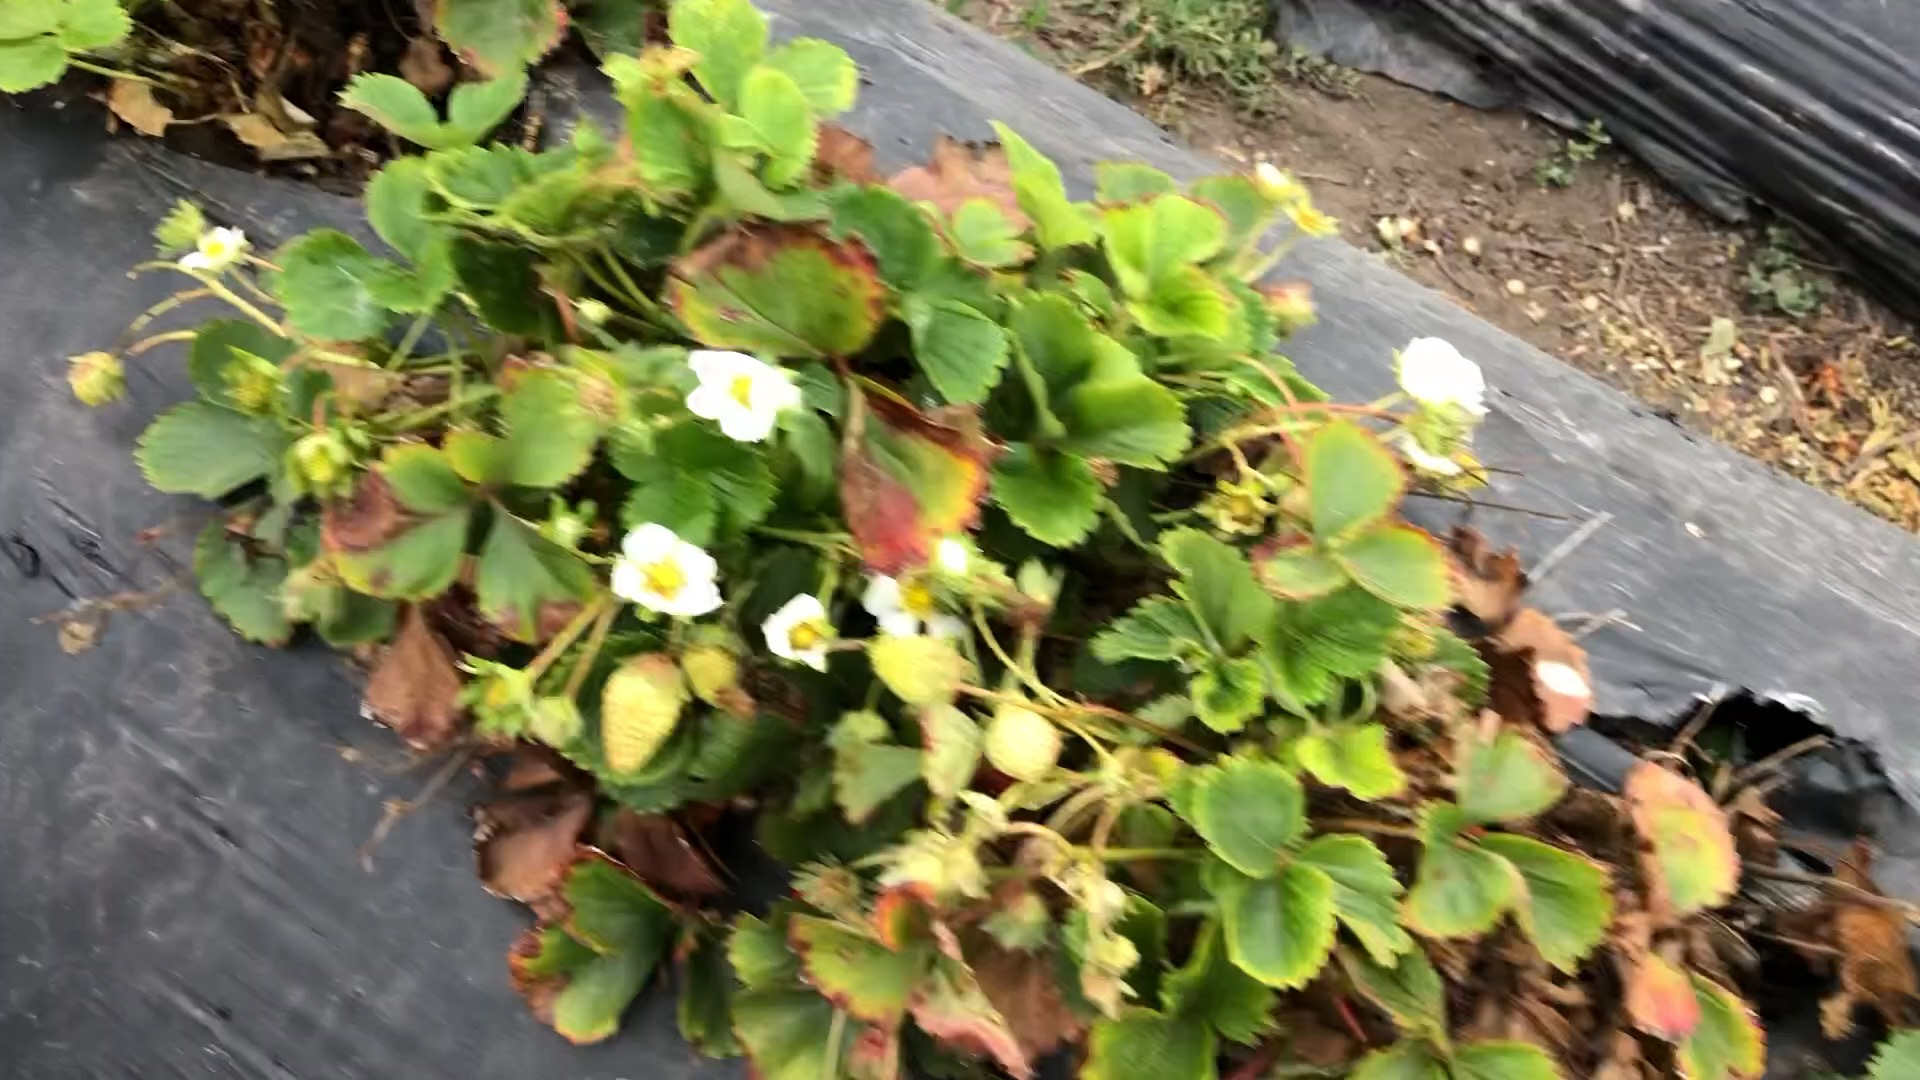unripe_strawberry: (593, 651, 687, 781), (683, 626, 745, 705), (69, 349, 123, 411), (295, 434, 345, 492)
